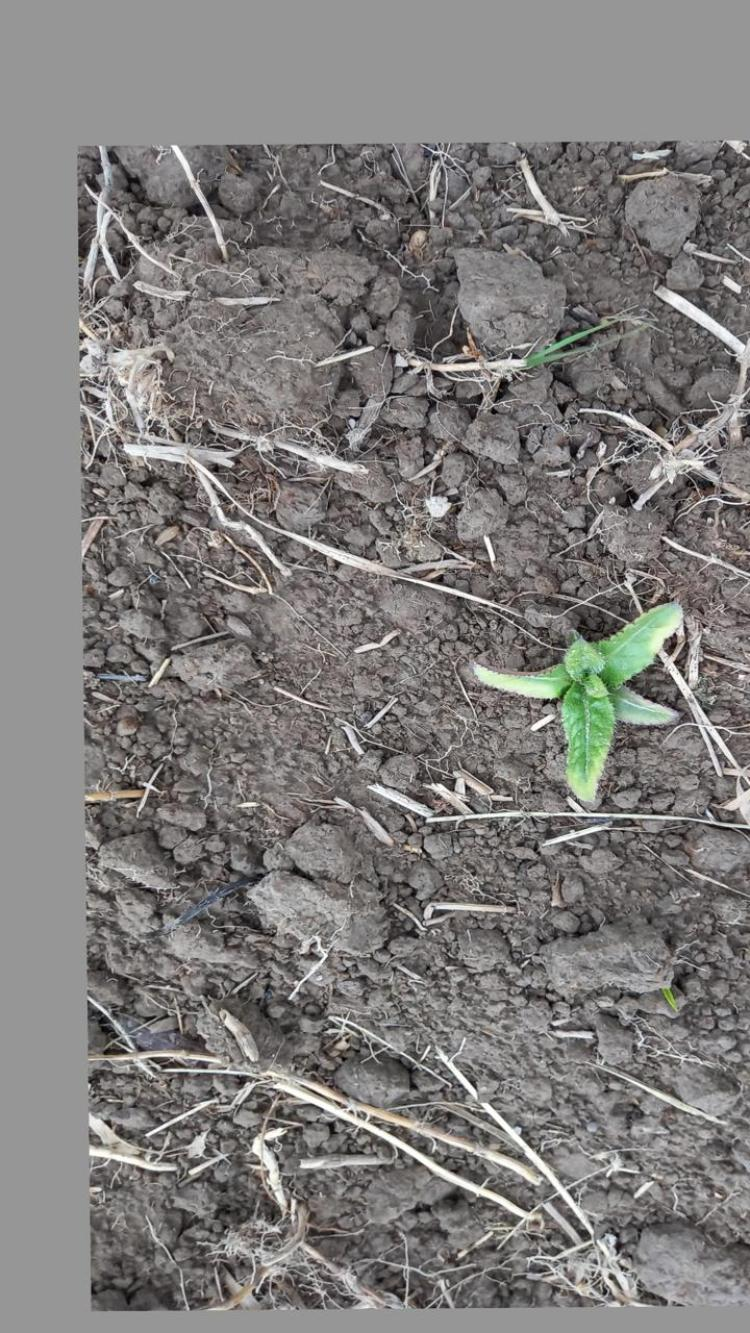bodyak: (467, 583, 683, 817)
